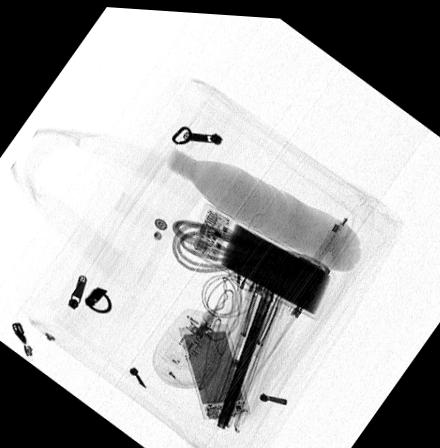Powerbank: (186, 198, 337, 316), (179, 322, 251, 418)
